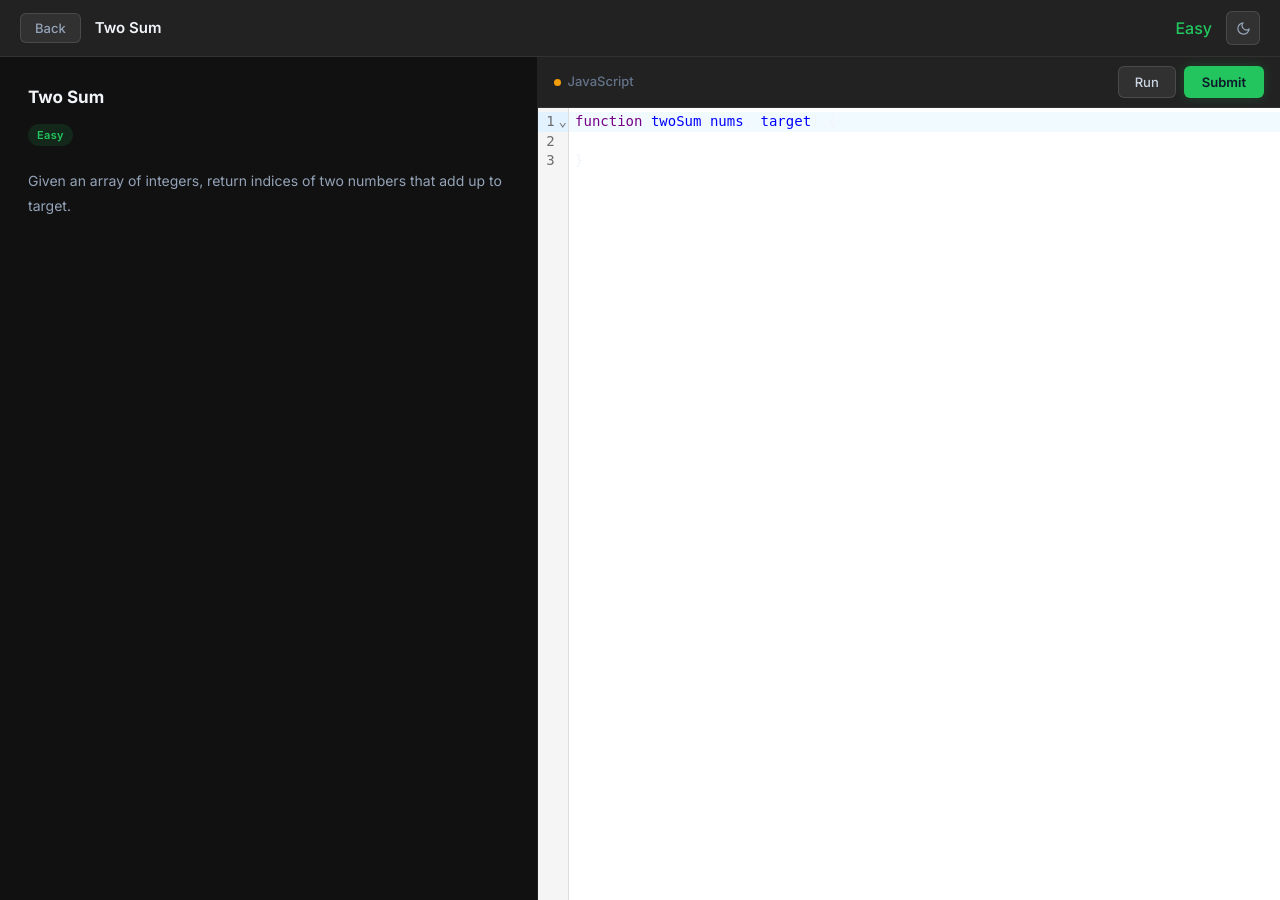
Test case: clicking Submit shows Accepted when all test cases pass
This screenshot has width=1280, height=900.
Click the button "Submit": click(1224, 82) [1184,66,1264,98]
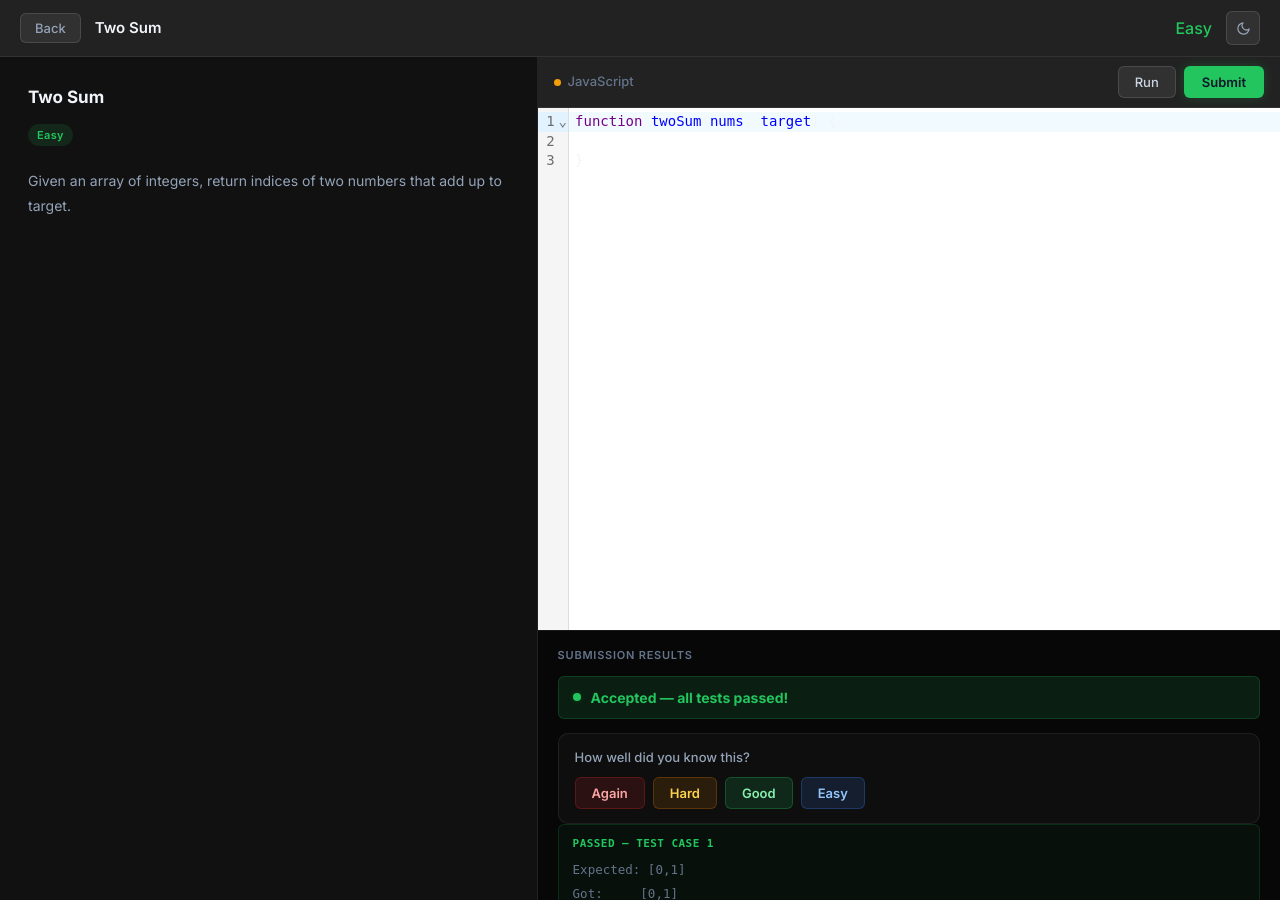
Expected: the text "Accepted — all tests passed!" is shown, [558,676,1260,718]
